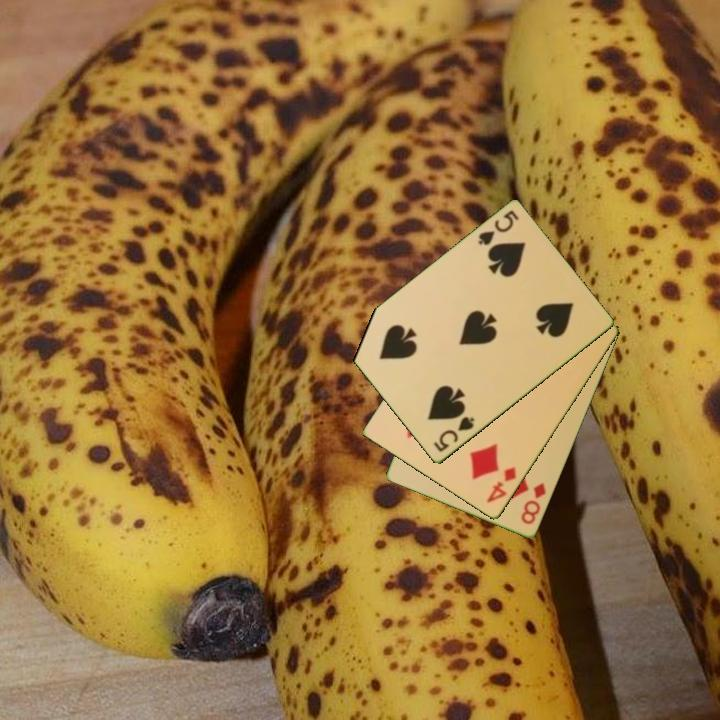4d: (483, 463, 519, 506)
5s: (474, 207, 522, 249), (430, 413, 477, 455)
8d: (518, 479, 549, 528)
